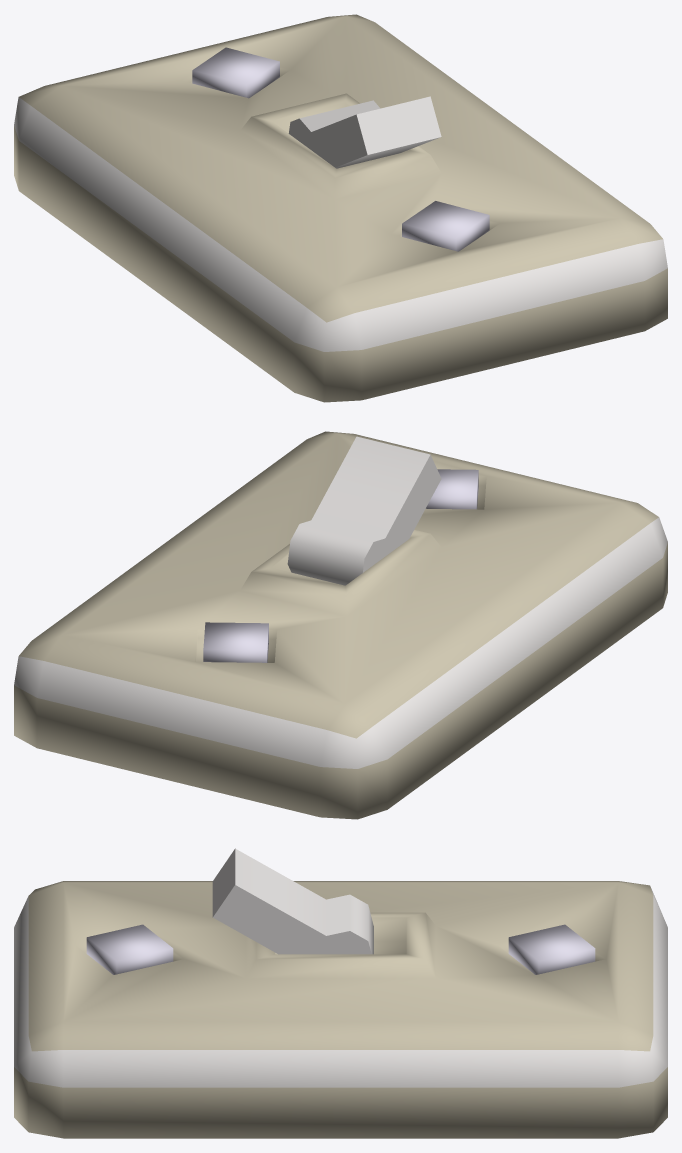
Rendered from LightSwitch.glb.
3 renders of one model, top to bottom at view 1: azimuth 30°, elevation 25°; view 2: azimuth 150°, elevation 25°; view 3: azimuth 270°, elevation 25°, orthographic.
Parts seen in each view (by area): view 1: Cube, Cube.001, Cube.003; view 2: Cube, Cube.001, Cube.003; view 3: Cube, Cube.001, Cube.003.
Part boxes in pixels (x1,y1,x2,y2): Cube: (14,14,667,402); Cube.001: (288,96,441,168); Cube.003: (192,47,489,251); Cube: (14,431,667,819); Cube.001: (287,436,441,585); Cube.003: (203,469,478,662); Cube: (14,881,667,1138); Cube.001: (212,848,373,954); Cube.003: (86,924,595,974).
Bounding box in the file's own units: 1.18 × 0.5496 × 1.8.
